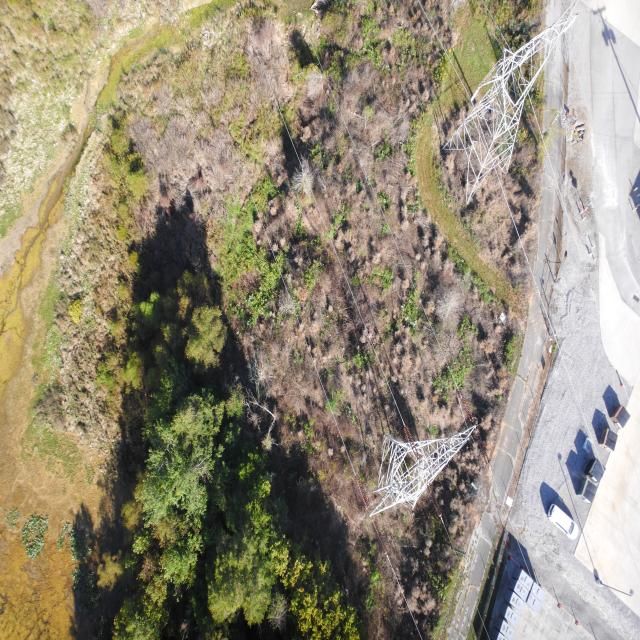Area of Interest: (120, 337, 344, 638)
